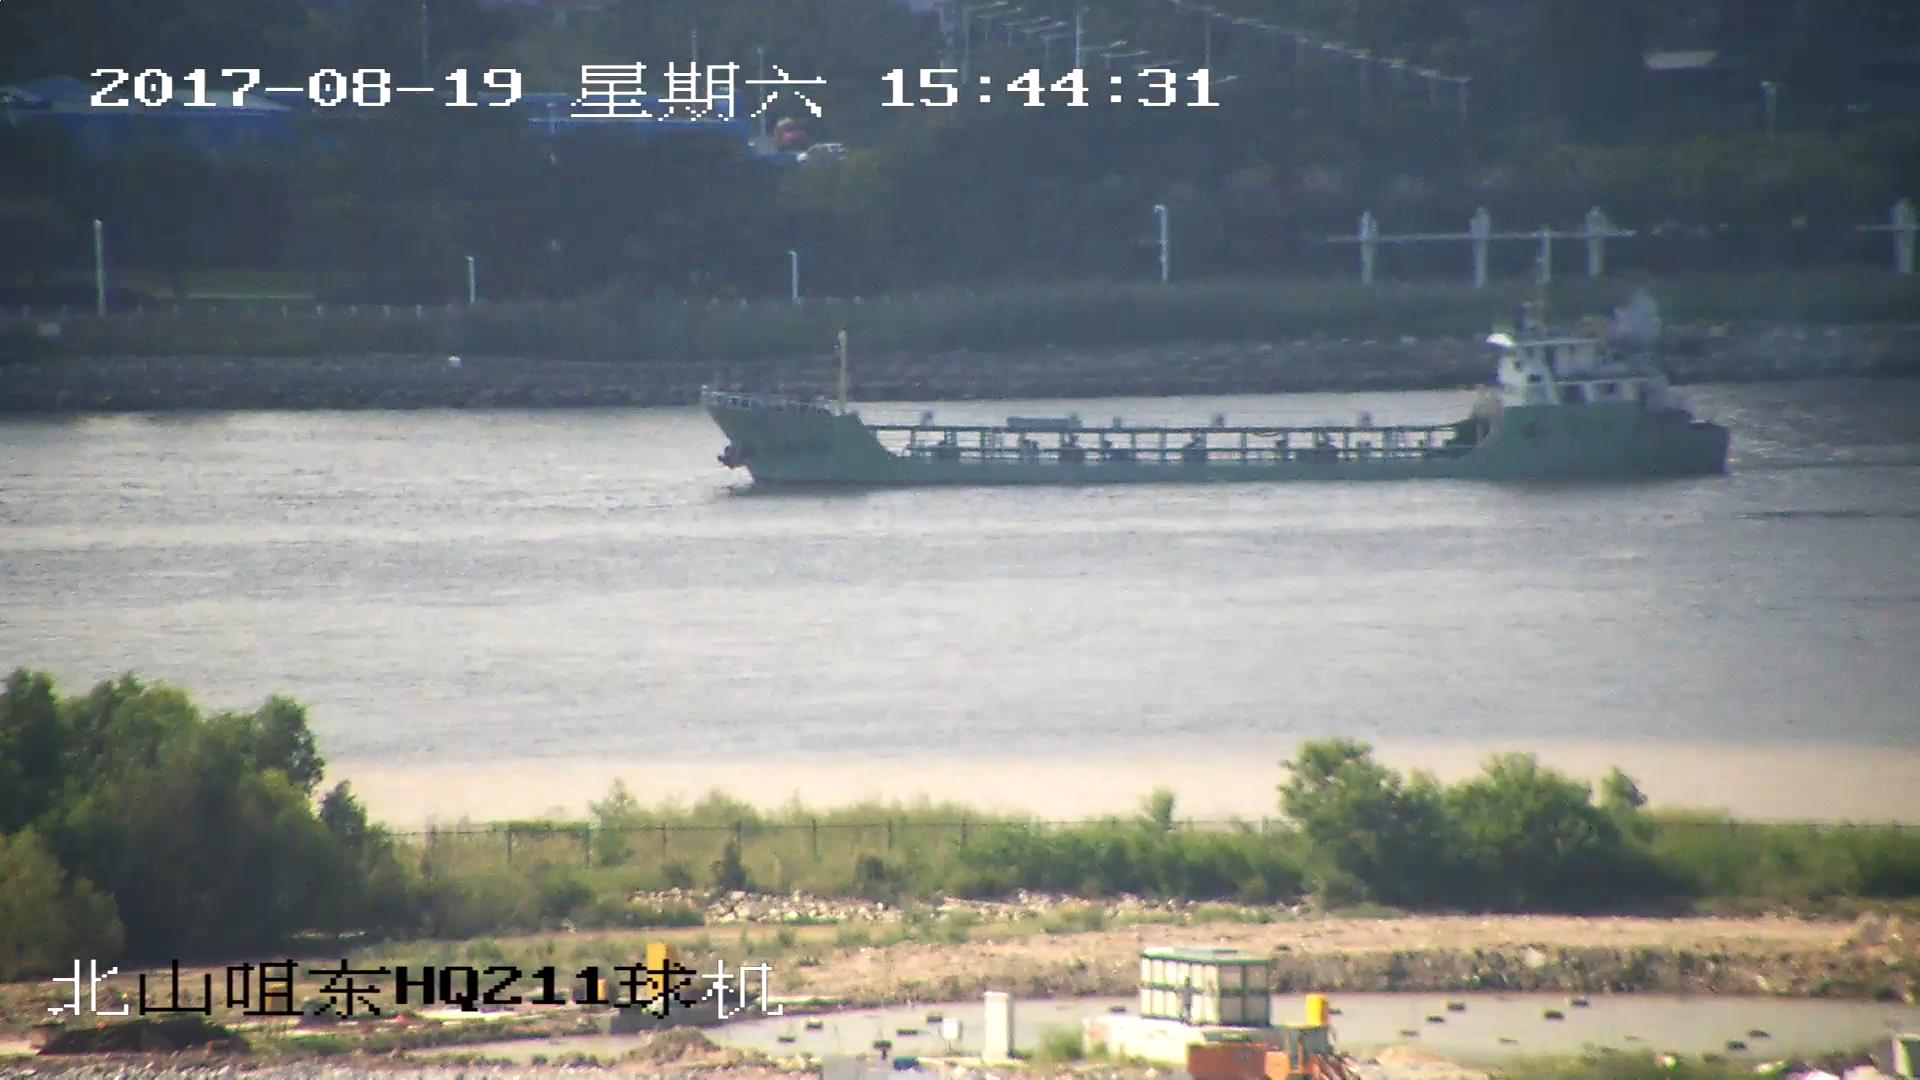general cargo ship: (702, 297, 1730, 486)
